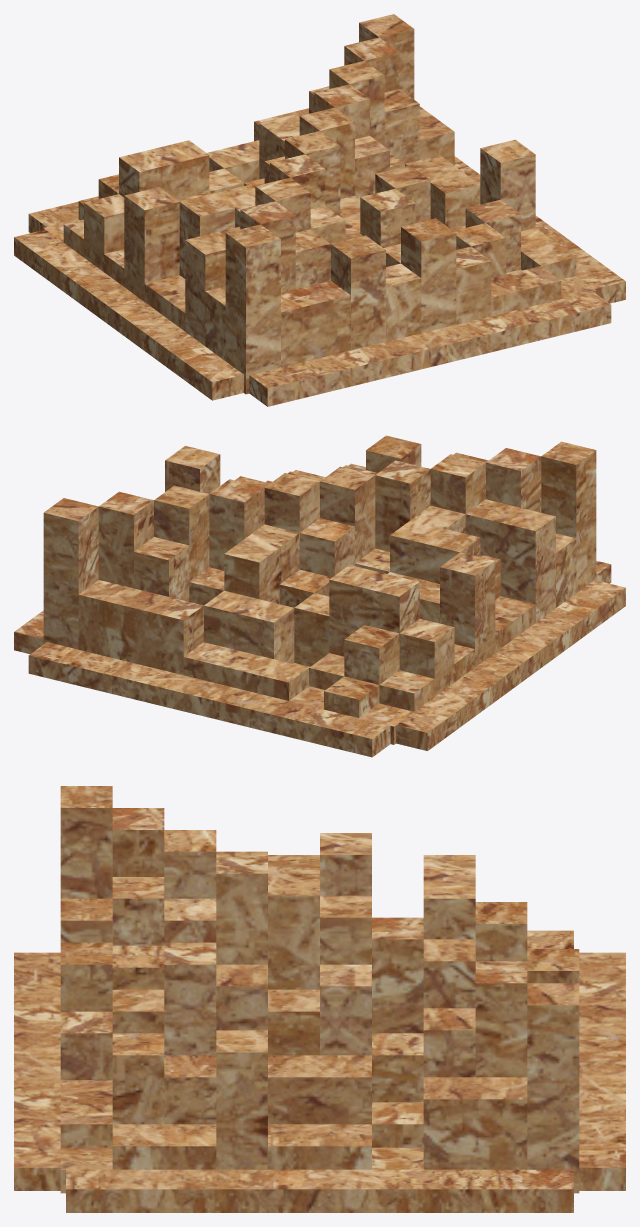
The model's file is stepfield_red_diagonal.dae.
3 views of the same model, one above another, from view 1: azimuth 30°, elevation 25°; view 2: azimuth 150°, elevation 25°; view 3: azimuth 270°, elevation 25° (orthographic). The views are drawn at different scales.
Parts seen in each view (by area): view 1: Cube_001; view 2: Cube_001; view 3: Cube_001.
Boxes of the visible parts, x1=… form: Cube_001: x1=14, y1=14, x2=625, y2=406; Cube_001: x1=14, y1=435, x2=625, y2=757; Cube_001: x1=14, y1=786, x2=625, y2=1212.
Size of the model in its own units: 1.18 by 1.18 by 0.4.
Materials: 1 (1 with a texture image).
